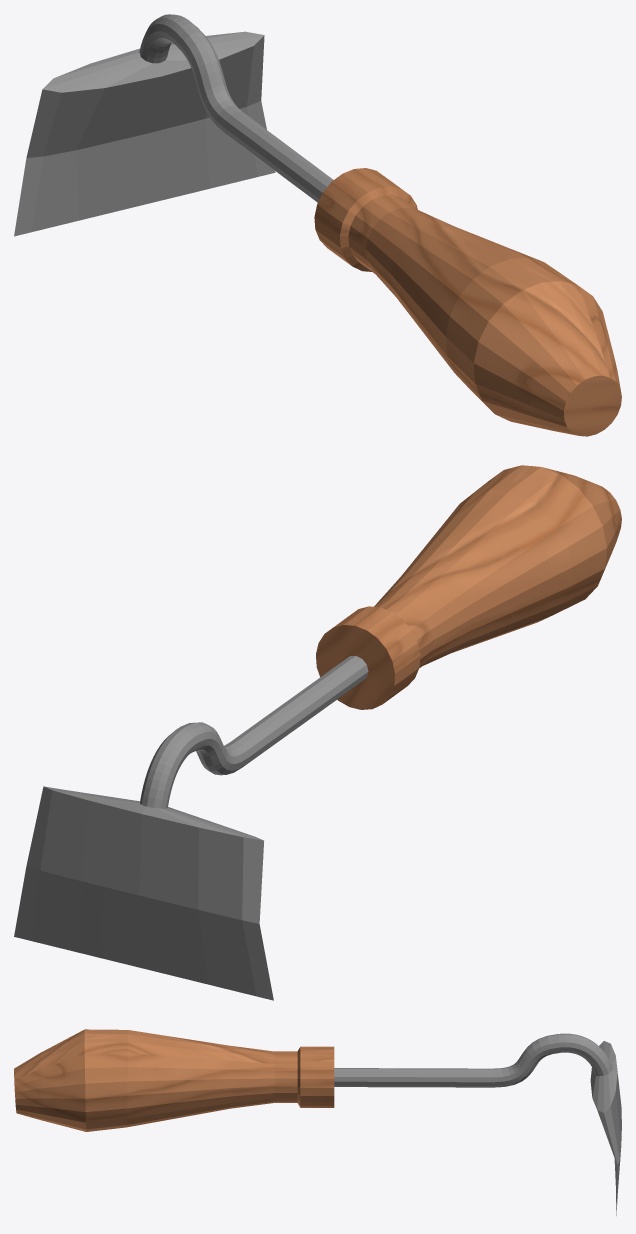
Rendered from HandHoe.fbx.
3 renders of one model, top to bottom at view 1: azimuth 30°, elevation 25°; view 2: azimuth 150°, elevation 25°; view 3: azimuth 270°, elevation 25°, orthographic. The views are drawn at different scales.
Parts seen in each view (by area): view 1: BezierCurve.002; view 2: BezierCurve.002; view 3: BezierCurve.002.
Boxes of the visible parts, <box> form: BezierCurve.002: <box>14,14,621,436</box>; BezierCurve.002: <box>14,465,621,1000</box>; BezierCurve.002: <box>14,1029,621,1215</box>.
Bounding box in the file's own units: 19.91 × 15.54 × 59.99.
